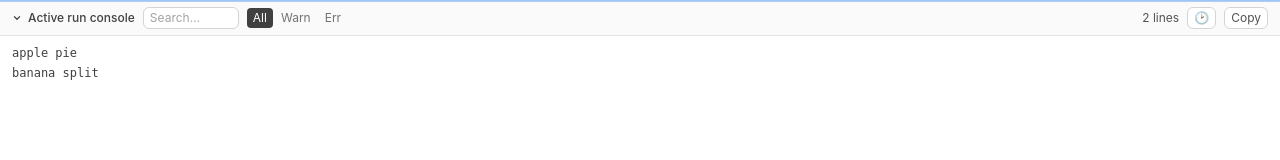
Test: Console › filters by search text
The image size is (1280, 160).
In the field with placeholder "Search…": {"x": 191, "y": 18} left=143, top=7, right=239, bottom=29, type "banana"
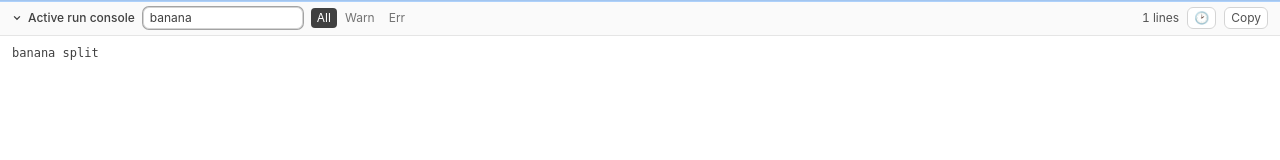
Expected: the text "apple pie" is gone
Expected: the text "banana split" is shown, left=12, top=46, right=99, bottom=60
Expected: the text "1 lines" is shown, left=1142, top=10, right=1179, bottom=26
